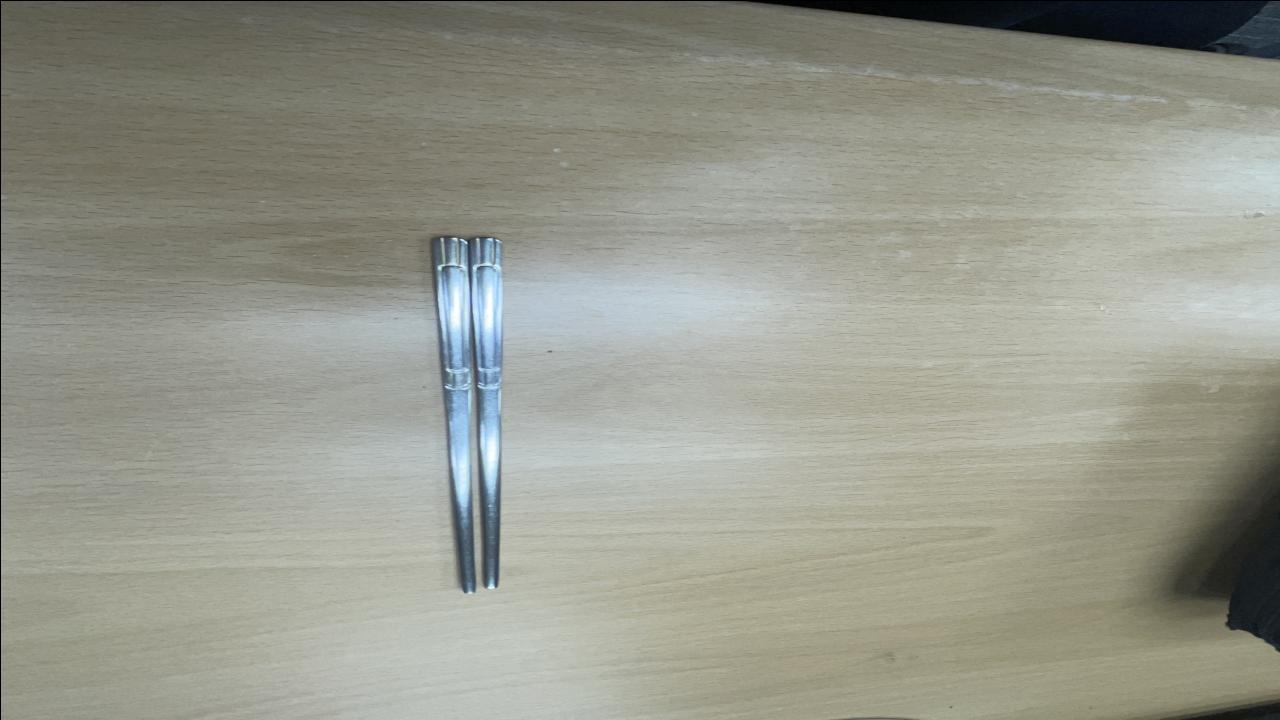chopstick: (428, 230, 512, 594)
